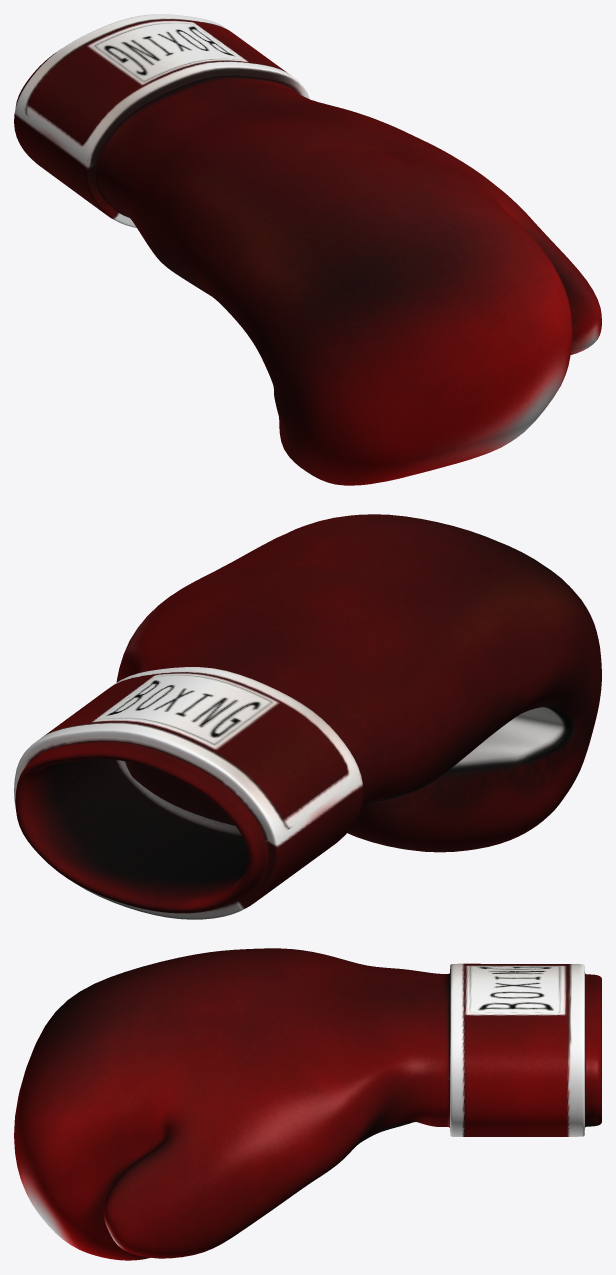
File: BoxingGloves.obj
The picture shows the model from 3 angles, top to bottom: view 1: azimuth 30°, elevation 25°; view 2: azimuth 150°, elevation 25°; view 3: azimuth 270°, elevation 25°; orthographic projection. The views are drawn at different scales.
Parts seen in each view (by area): view 1: 10493_Leather_Boxing_Gloves_V1_L3; view 2: 10493_Leather_Boxing_Gloves_V1_L3; view 3: 10493_Leather_Boxing_Gloves_V1_L3.
Part boxes in pixels (<box>): 10493_Leather_Boxing_Gloves_V1_L3: <box>14,14,601,485</box>; 10493_Leather_Boxing_Gloves_V1_L3: <box>14,514,601,919</box>; 10493_Leather_Boxing_Gloves_V1_L3: <box>14,948,601,1260</box>.
Size of the model in its own units: 0.8854 by 0.6656 by 1.4.
